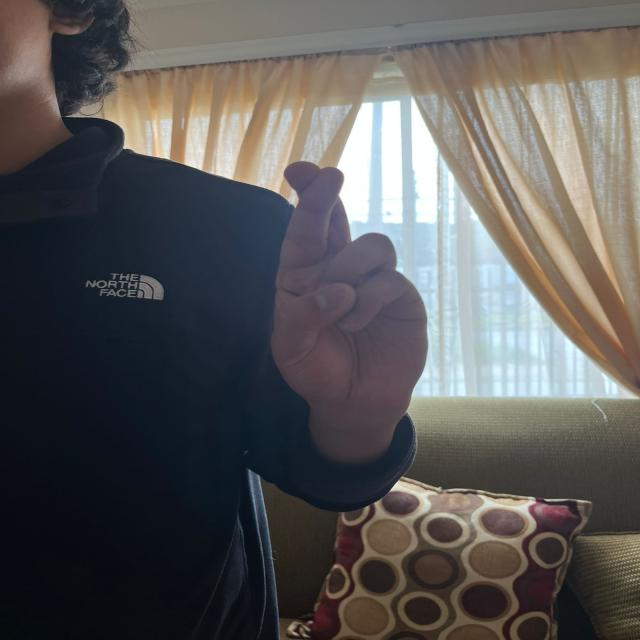R: (255, 157, 440, 414)
